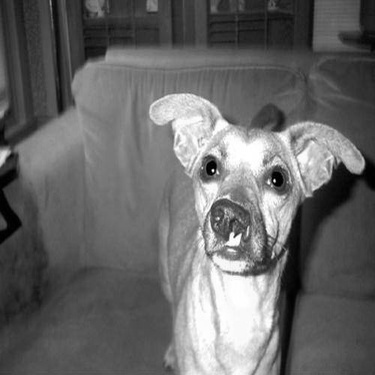dog: (143, 87, 368, 372)
